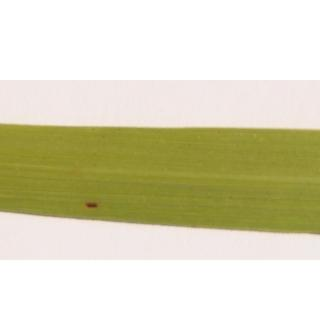bercak-Cokelat: (85, 197, 107, 214)
